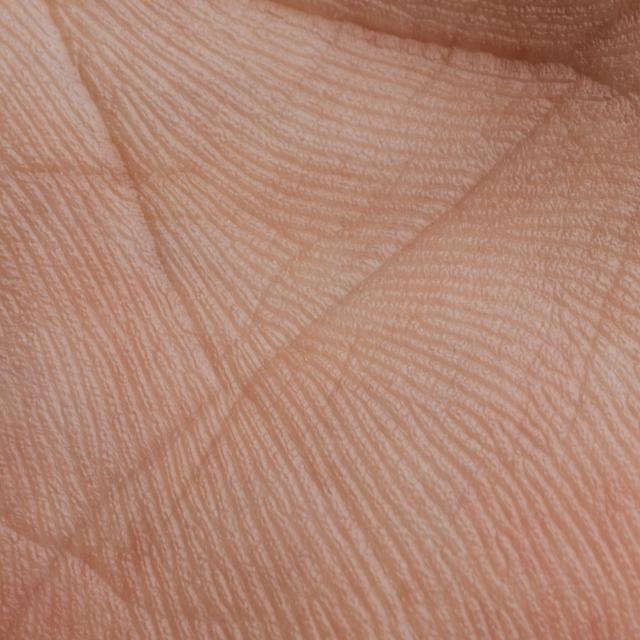Dry-Skin: (159, 369, 396, 609), (16, 128, 116, 449), (530, 37, 640, 325)
